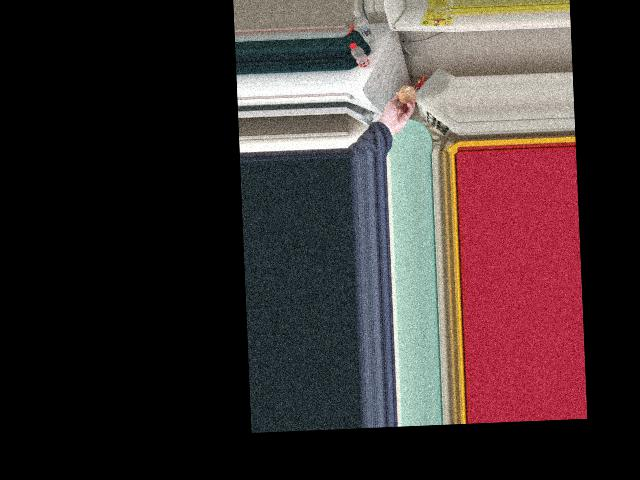sweet_potato: (397, 85, 414, 106)
